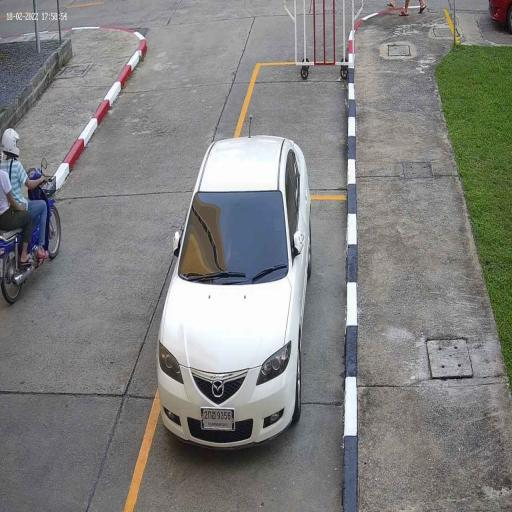car: (156, 132, 312, 459)
motorcycle: (0, 196, 62, 305)
